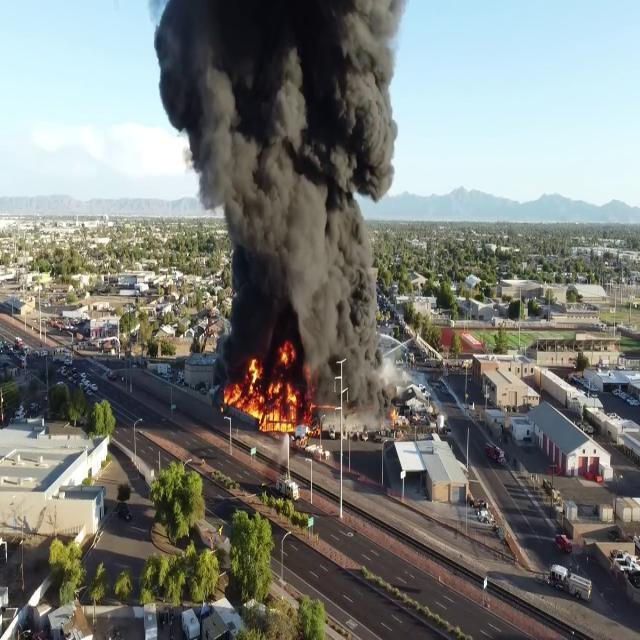Fire: (225, 339, 312, 431)
Smoke: (151, 0, 418, 390)
